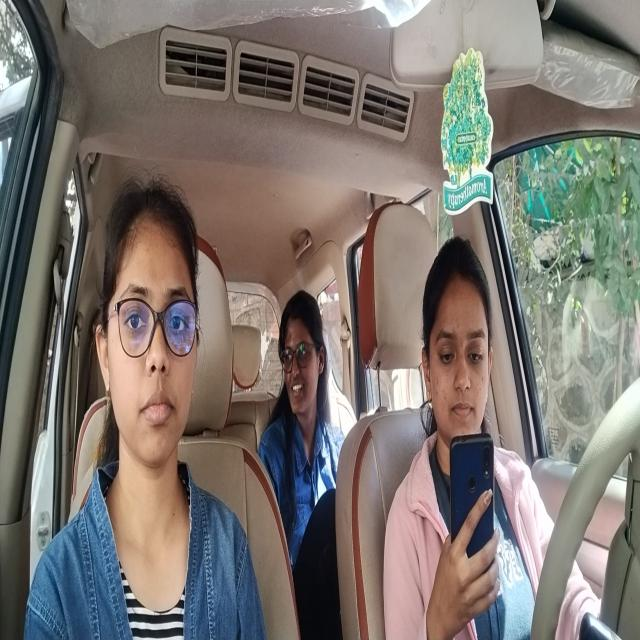mobile: (447, 424, 500, 574)
person: (88, 172, 207, 475), (418, 228, 506, 449), (278, 298, 330, 430)
